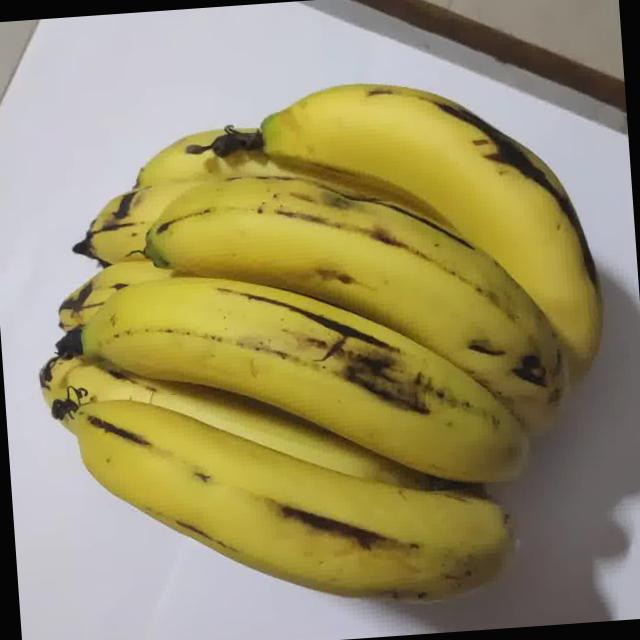banana_pacche: (34, 11, 640, 640)
